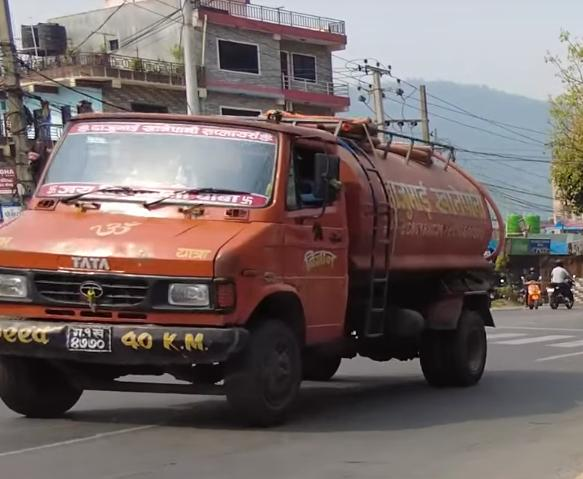bike: (537, 246, 580, 311)
mini_truck: (0, 99, 507, 439)
